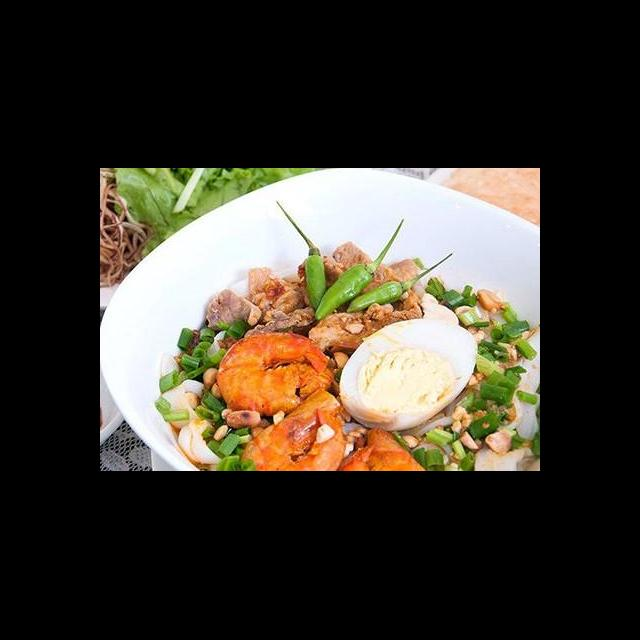mi: (399, 354, 540, 472), (154, 376, 239, 472)
thit heo: (292, 238, 427, 358), (204, 264, 322, 339)
tom: (214, 328, 337, 419), (235, 386, 350, 472)
trung: (336, 316, 480, 438)
